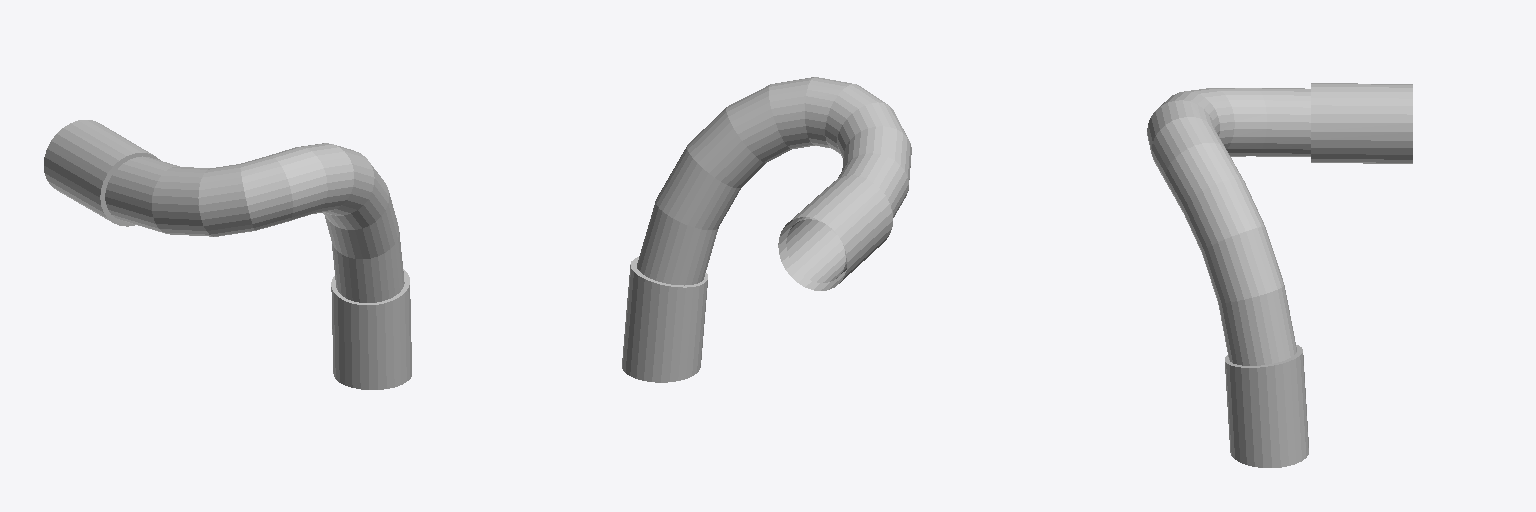
The model's file is Wall_Pipe.obj.
The picture shows the model from 3 angles: view 1: azimuth 30°, elevation 25°; view 2: azimuth 150°, elevation 25°; view 3: azimuth 270°, elevation 25°; orthographic projection.
Parts seen in each view (by area): view 1: Wall_Pipe; view 2: Wall_Pipe; view 3: Wall_Pipe.
Boxes of the visible parts, x1=… form: Wall_Pipe: x1=44, y1=120, x2=411, y2=389; Wall_Pipe: x1=622, y1=77, x2=911, y2=382; Wall_Pipe: x1=1147, y1=83, x2=1412, y2=467.
Size of the model in its own units: 1.18 by 1.09 by 0.9275.